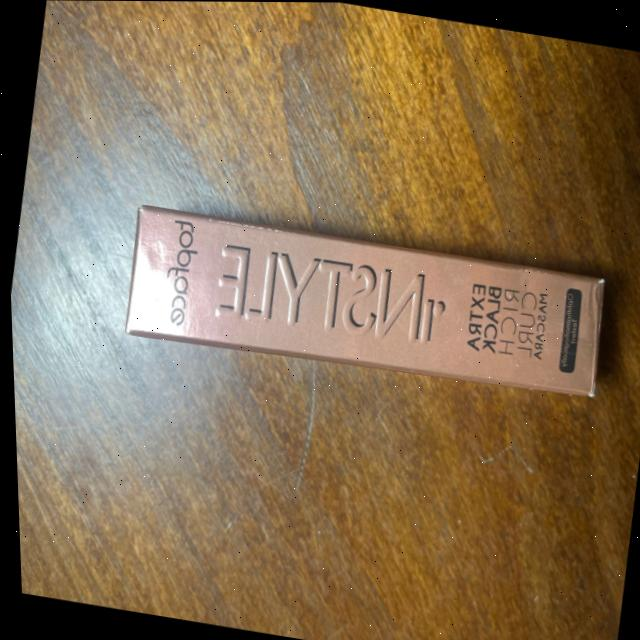primer: (81, 180, 637, 430)
